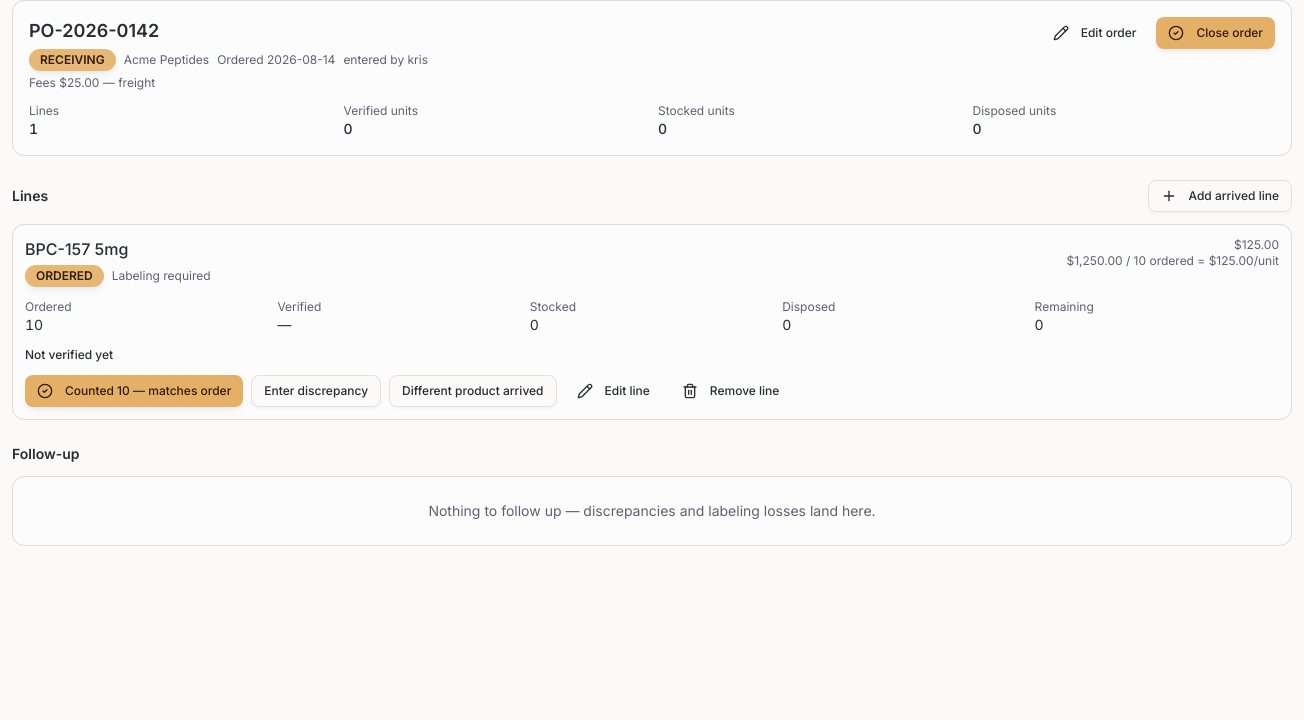
Test: a refusal › shows a blocked CLOSE verbatim and names the lines that blocked it
This screenshot has width=1304, height=720.
Click the button "Close order": point(1216, 33) [1156, 17, 1275, 49]
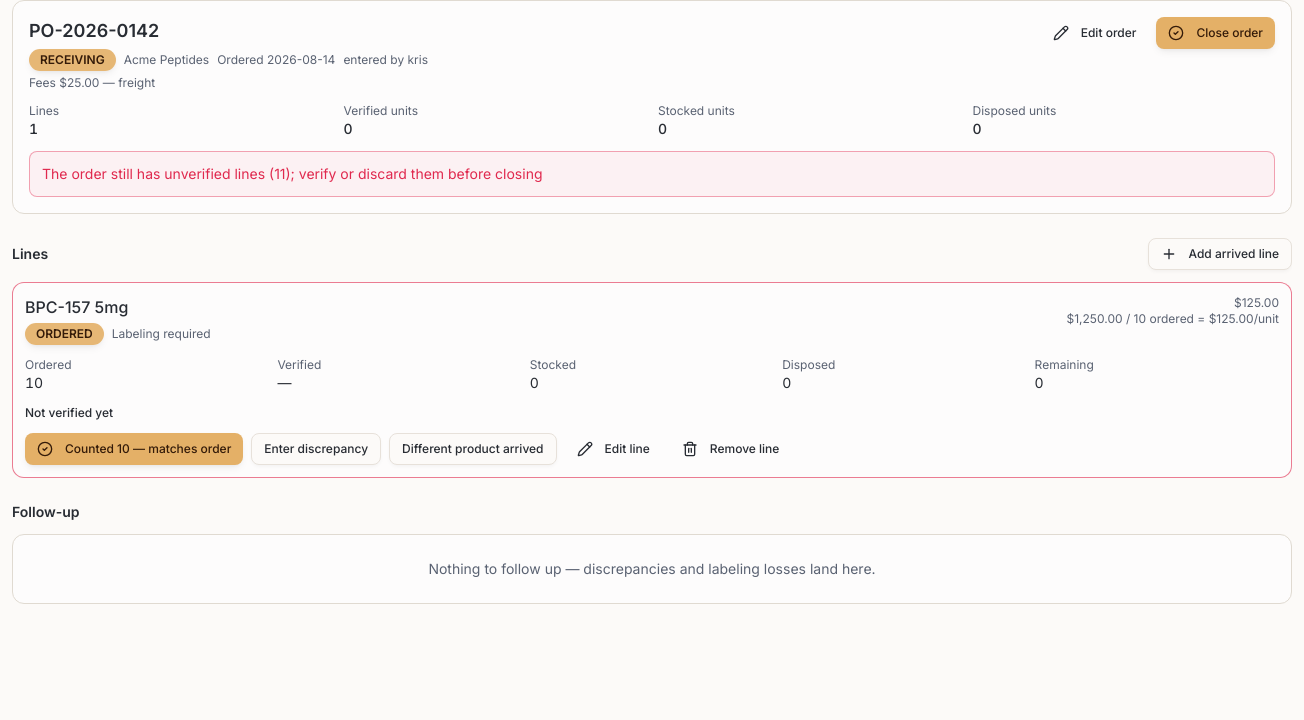
Expected: the text "The order still has unverified lines (11); verify or discard them before closing" is shown, [29, 151, 1275, 197]
